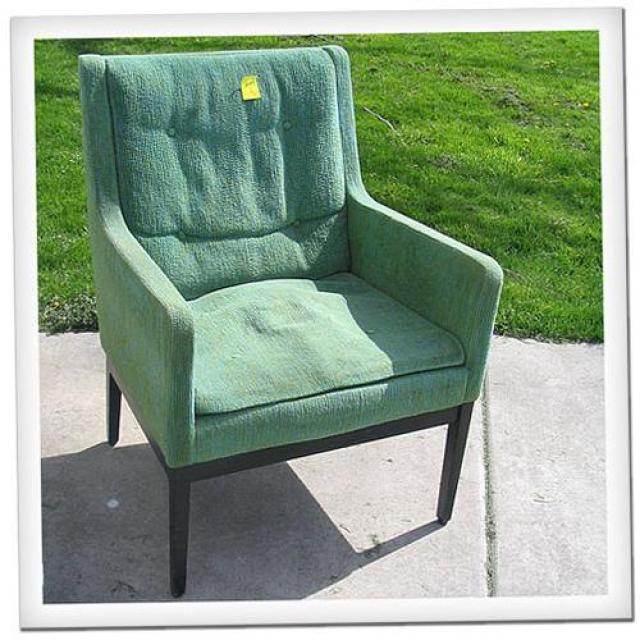chair: (78, 45, 504, 600)
